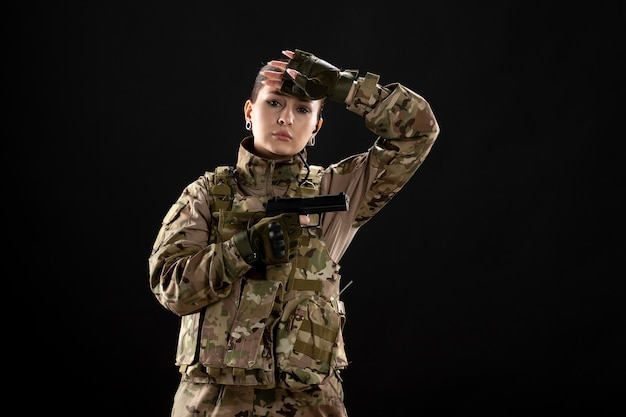gun: (265, 192, 348, 232)
